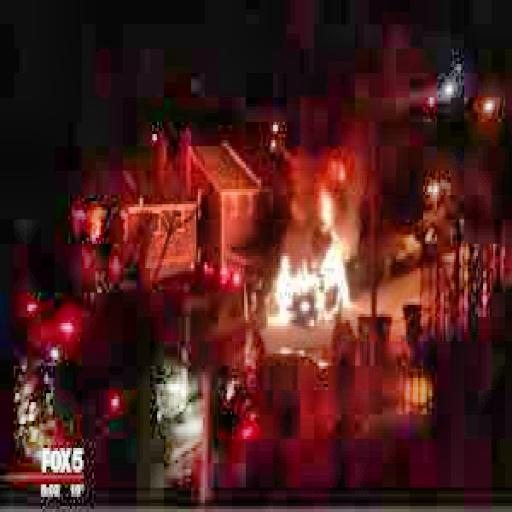fire: (261, 192, 360, 332)
